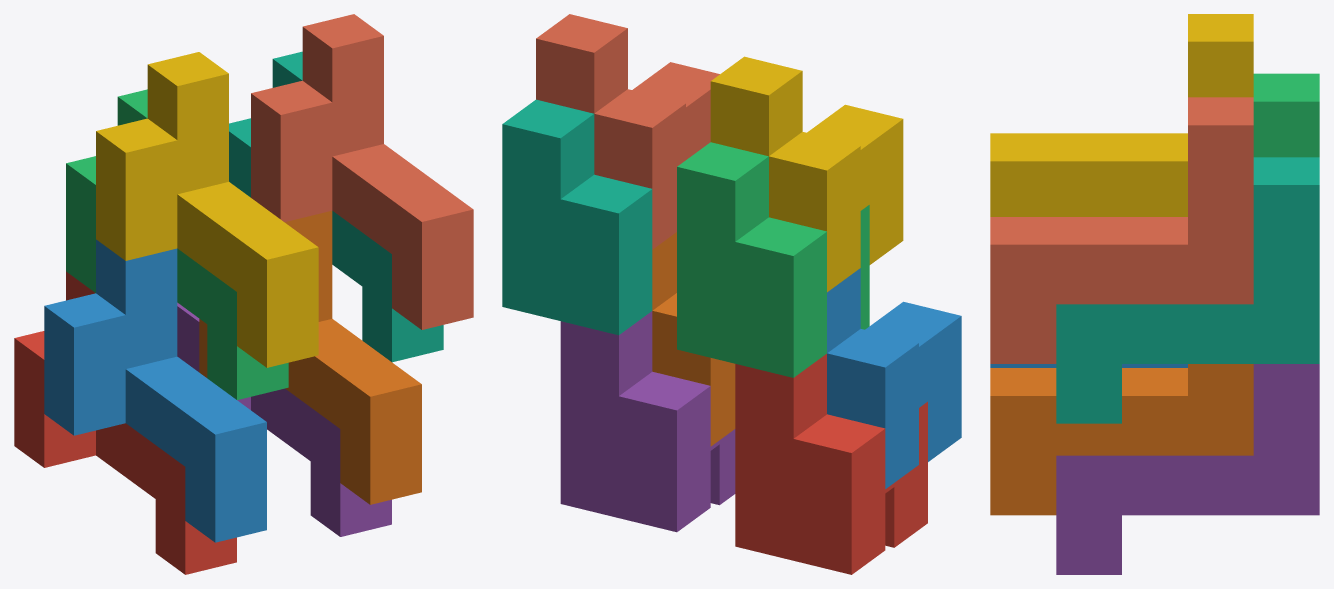
The model's file is tiling.obj.
3 renders of one model, left to right at view 1: azimuth 30°, elevation 25°; view 2: azimuth 150°, elevation 25°; view 3: azimuth 270°, elevation 25°, orthographic. The views are drawn at different scales.
Visible parts, largest first — view 1: copy_1_domain_4, copy_1_domain_8, copy_1_domain_2, copy_1_domain_6, copy_1_domain_1, copy_1_domain_3, copy_1_domain_7, copy_1_domain_5; view 2: copy_1_domain_1, copy_1_domain_3, copy_1_domain_7, copy_1_domain_5, copy_1_domain_4, copy_1_domain_8, copy_1_domain_2, copy_1_domain_6; view 3: copy_1_domain_8, copy_1_domain_7, copy_1_domain_5, copy_1_domain_6, copy_1_domain_4, copy_1_domain_3, copy_1_domain_2.
Part boxes in pixels (x1=…): copy_1_domain_4: x1=96, y1=52, x2=318, y2=367; copy_1_domain_8: x1=251, y1=14, x2=473, y2=329; copy_1_domain_2: x1=44, y1=239, x2=266, y2=542; copy_1_domain_6: x1=199, y1=211, x2=421, y2=504; copy_1_domain_1: x1=14, y1=271, x2=236, y2=574; copy_1_domain_3: x1=66, y1=89, x2=288, y2=399; copy_1_domain_7: x1=229, y1=51, x2=443, y2=362; copy_1_domain_5: x1=177, y1=302, x2=391, y2=536; copy_1_domain_1: x1=735, y1=354, x2=927, y2=574; copy_1_domain_3: x1=677, y1=142, x2=869, y2=377; copy_1_domain_7: x1=502, y1=99, x2=652, y2=335; copy_1_domain_5: x1=560, y1=311, x2=735, y2=532; copy_1_domain_4: x1=710, y1=56, x2=903, y2=292; copy_1_domain_8: x1=536, y1=14, x2=719, y2=249; copy_1_domain_2: x1=827, y1=268, x2=961, y2=488; copy_1_domain_6: x1=652, y1=232, x2=735, y2=446; copy_1_domain_8: x1=990, y1=97, x2=1253, y2=363; copy_1_domain_7: x1=1056, y1=157, x2=1319, y2=423; copy_1_domain_5: x1=1056, y1=364, x2=1319, y2=574; copy_1_domain_6: x1=990, y1=364, x2=1253, y2=515; copy_1_domain_4: x1=990, y1=14, x2=1253, y2=216; copy_1_domain_3: x1=1253, y1=73, x2=1319, y2=157; copy_1_domain_2: x1=990, y1=364, x2=1187, y2=367.
Bounding box in the file's own units: 6 × 8 × 5.
